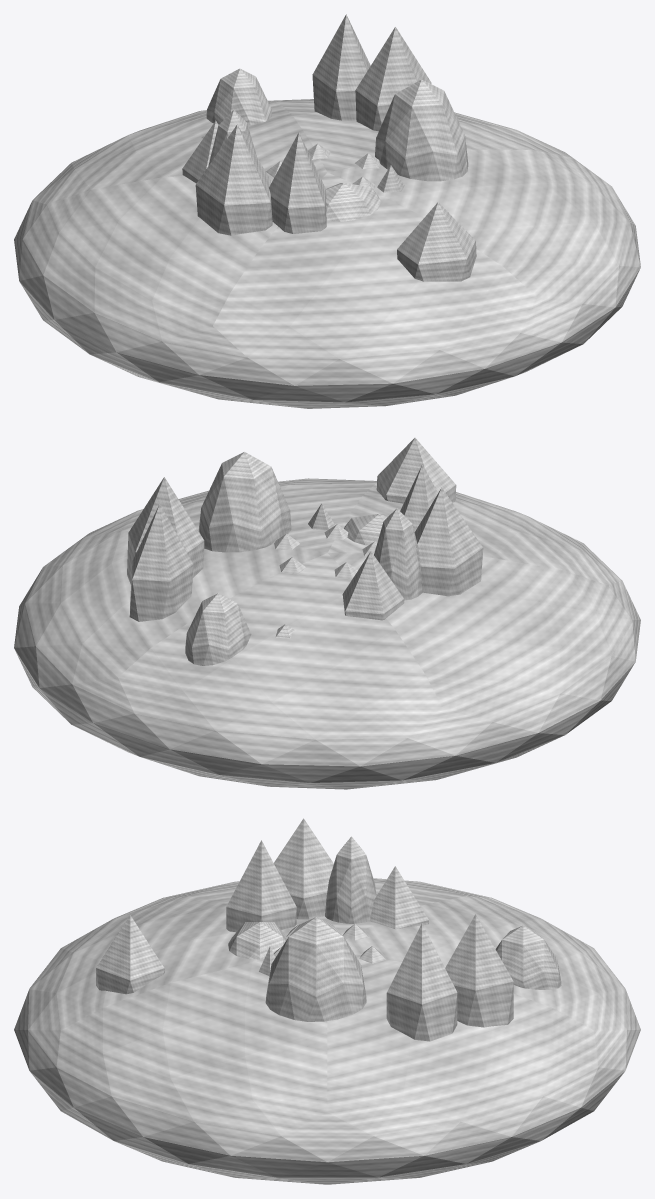
File: copper_ore_node_variant_c.glb
The picture shows the model from 3 angles, top to bottom: view 1: azimuth 30°, elevation 25°; view 2: azimuth 150°, elevation 25°; view 3: azimuth 270°, elevation 25°; orthographic projection.
Visible parts, largest first — view 1: Resource node bedrock.002, Exposed ore formation.021, Exposed ore formation.028, Exposed ore formation.031, Exposed ore formation.029, Exposed ore formation.023, Exposed ore formation.022, Exposed ore formation.024, Exposed ore formation.030, Exposed ore formation.026, Exposed ore formation.027; view 2: Resource node bedrock.002, Exposed ore formation.021, Exposed ore formation.023, Exposed ore formation.028, Exposed ore formation.024, Exposed ore formation.027, Exposed ore formation.022, Exposed ore formation.026, Exposed ore formation.031, Exposed ore formation.029, Exposed ore formation.030; view 3: Resource node bedrock.002, Exposed ore formation.021, Exposed ore formation.022, Exposed ore formation.023, Exposed ore formation.029, Exposed ore formation.028, Exposed ore formation.027, Exposed ore formation.031, Exposed ore formation.024, Exposed ore formation.026, Exposed ore formation.030.
Boxes of the visible parts, <box> form: Resource node bedrock.002: <box>14,99,640,408</box>; Exposed ore formation.021: <box>375,79,468,181</box>; Exposed ore formation.028: <box>195,124,272,235</box>; Exposed ore formation.031: <box>397,202,476,281</box>; Exposed ore formation.029: <box>269,132,326,233</box>; Exposed ore formation.023: <box>312,14,370,120</box>; Exposed ore formation.022: <box>355,27,431,131</box>; Exposed ore formation.024: <box>206,68,271,125</box>; Exposed ore formation.030: <box>326,183,380,221</box>; Exposed ore formation.026: <box>182,120,218,183</box>; Exposed ore formation.027: <box>208,110,256,165</box>; Resource node bedrock.002: <box>14,478,640,789</box>; Exposed ore formation.021: <box>198,451,291,552</box>; Exposed ore formation.023: <box>129,504,193,621</box>; Exposed ore formation.028: <box>414,487,483,596</box>; Exposed ore formation.024: <box>185,593,251,665</box>; Exposed ore formation.027: <box>374,508,422,600</box>; Exposed ore formation.022: <box>127,477,204,584</box>; Exposed ore formation.026: <box>342,551,404,620</box>; Exposed ore formation.031: <box>376,437,456,503</box>; Exposed ore formation.029: <box>400,464,437,531</box>; Exposed ore formation.030: <box>344,513,387,545</box>; Resource node bedrock.002: <box>14,878,640,1184</box>; Exposed ore formation.021: <box>265,917,366,1021</box>; Exposed ore formation.022: <box>386,923,457,1041</box>; Exposed ore formation.023: <box>445,914,513,1027</box>; Exposed ore formation.029: <box>226,840,296,932</box>; Exposed ore formation.028: <box>274,818,333,919</box>; Exposed ore formation.027: <box>325,836,376,923</box>; Exposed ore formation.031: <box>96,915,164,994</box>; Exposed ore formation.024: <box>495,925,561,989</box>; Exposed ore formation.026: <box>369,866,428,929</box>; Exposed ore formation.030: <box>228,922,287,959</box>.
Size of what is drawn, in the model's own units: 6 by 2.57 by 6.
Materials: 2 (2 with a texture image).
